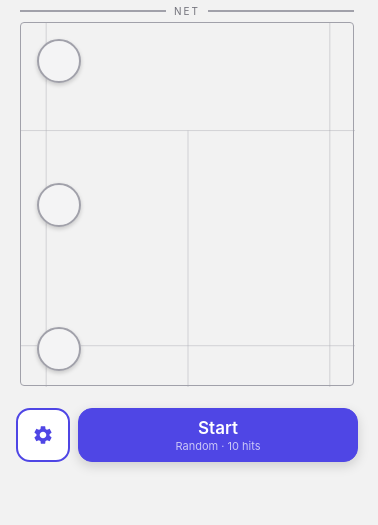
Test: Start composes random config from the screen + settings — no timeout on the wire
Click the text "Start" at (218, 428), box top-left (198, 418), bottom-right (238, 438)
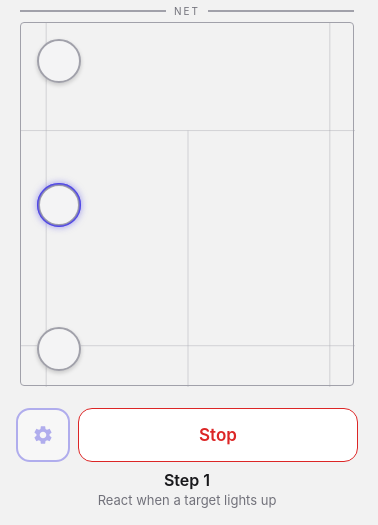
Result: the text "Stop" is shown at top-left (199, 425), bottom-right (237, 445)
